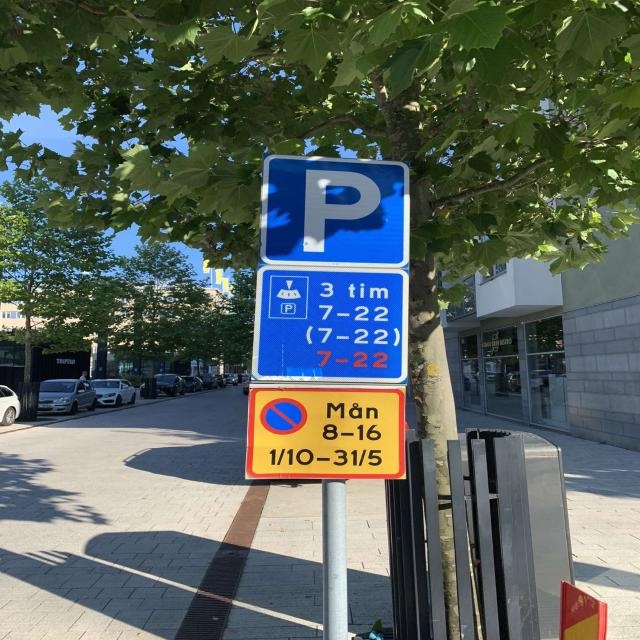avstignnigsplats: (258, 154, 409, 271)
